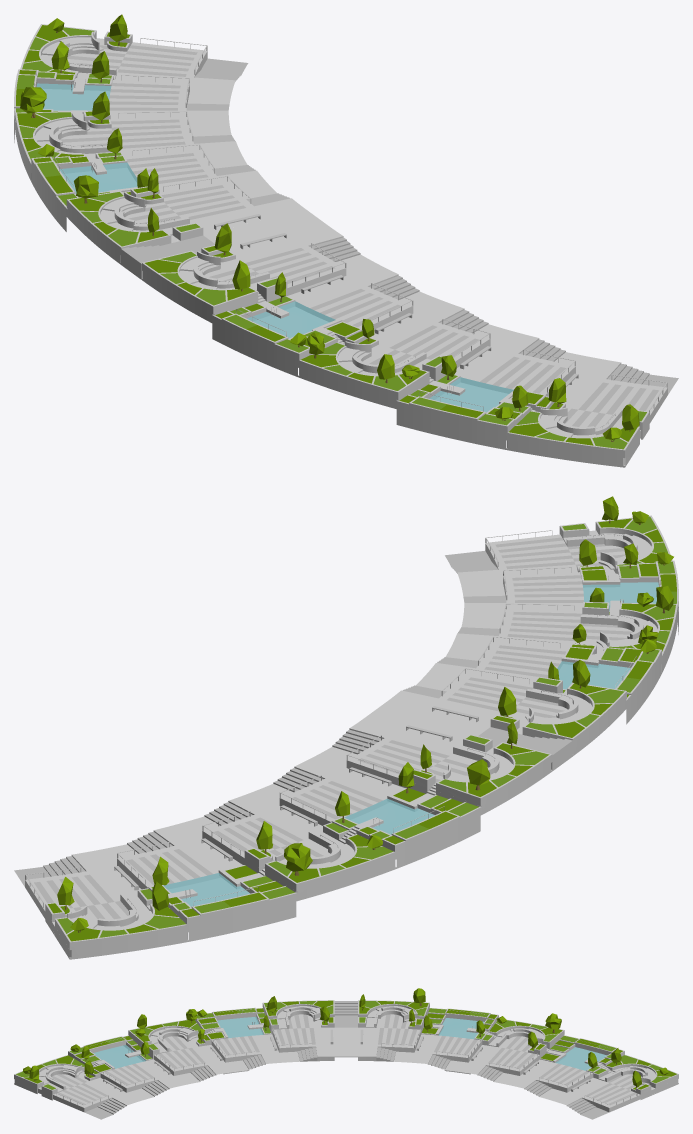
The model's file is ring2_segment.glb.
The picture shows the model from 3 angles, top to bottom: view 1: azimuth 30°, elevation 25°; view 2: azimuth 150°, elevation 25°; view 3: azimuth 270°, elevation 25°; orthographic projection. The views are drawn at different scales.
Parts seen in each view (by area): view 1: RING_2_MOD; view 2: RING_2_MOD; view 3: RING_2_MOD.
Boxes of the visible parts, x1=… form: RING_2_MOD: x1=14, y1=14, x2=678, y2=467; RING_2_MOD: x1=14, y1=496, x2=678, y2=959; RING_2_MOD: x1=14, y1=988, x2=678, y2=1119.
Bounding box in the file's own units: 4008 × 905 × 12159.
Materials: 8 (1 with a texture image).
